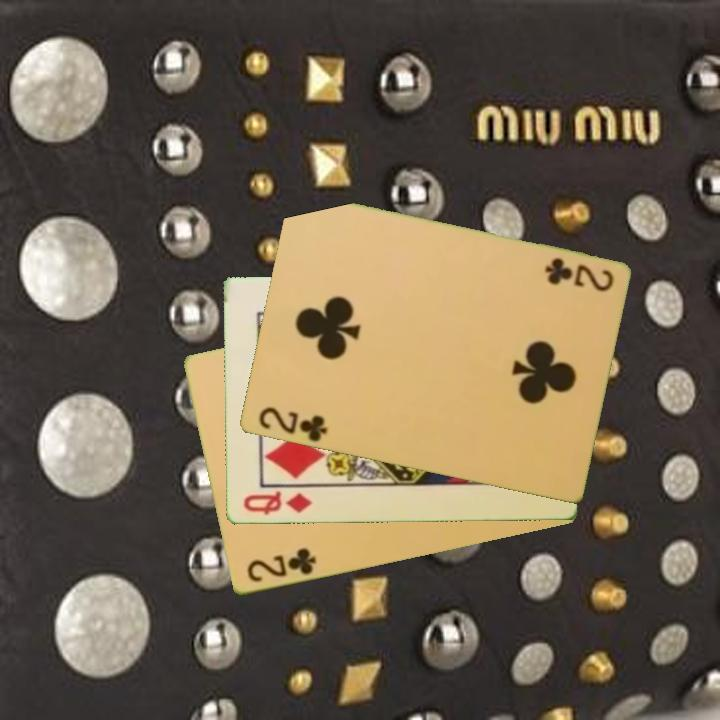2c: (255, 403, 330, 445), (243, 545, 319, 586), (541, 254, 616, 295)
Qd: (239, 488, 314, 519)
